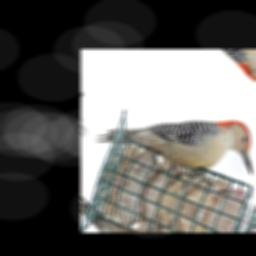Woodpecker: (93, 71, 256, 205)
